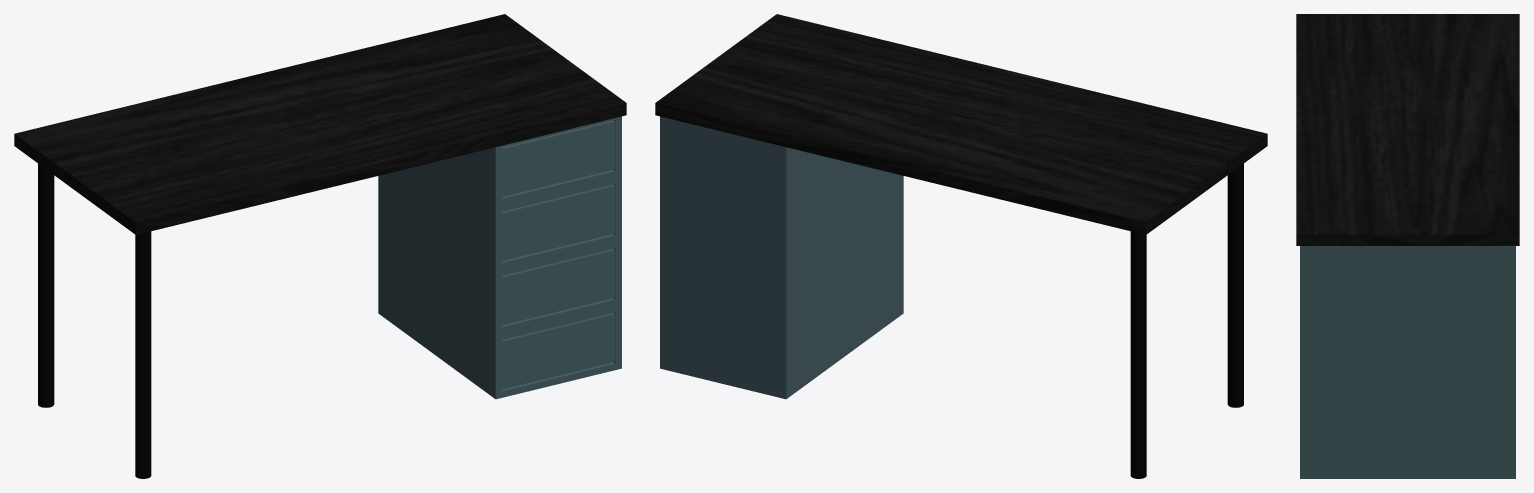
The model's file is desk.fbx.
3 renders of one model, left to right at view 1: azimuth 30°, elevation 25°; view 2: azimuth 150°, elevation 25°; view 3: azimuth 270°, elevation 25°, orthographic. The views are drawn at different scales.
Visible parts, largest first — view 1: Cylinder; view 2: Cylinder; view 3: Cylinder.
Boxes of the visible parts, x1,y1,x2,y2 form: Cylinder: (14,14,626,478); Cylinder: (655,14,1267,478); Cylinder: (1296,14,1519,478).
Size of the model in its own units: 140 by 72.7 by 60.
Materials: 3 (1 with a texture image).
